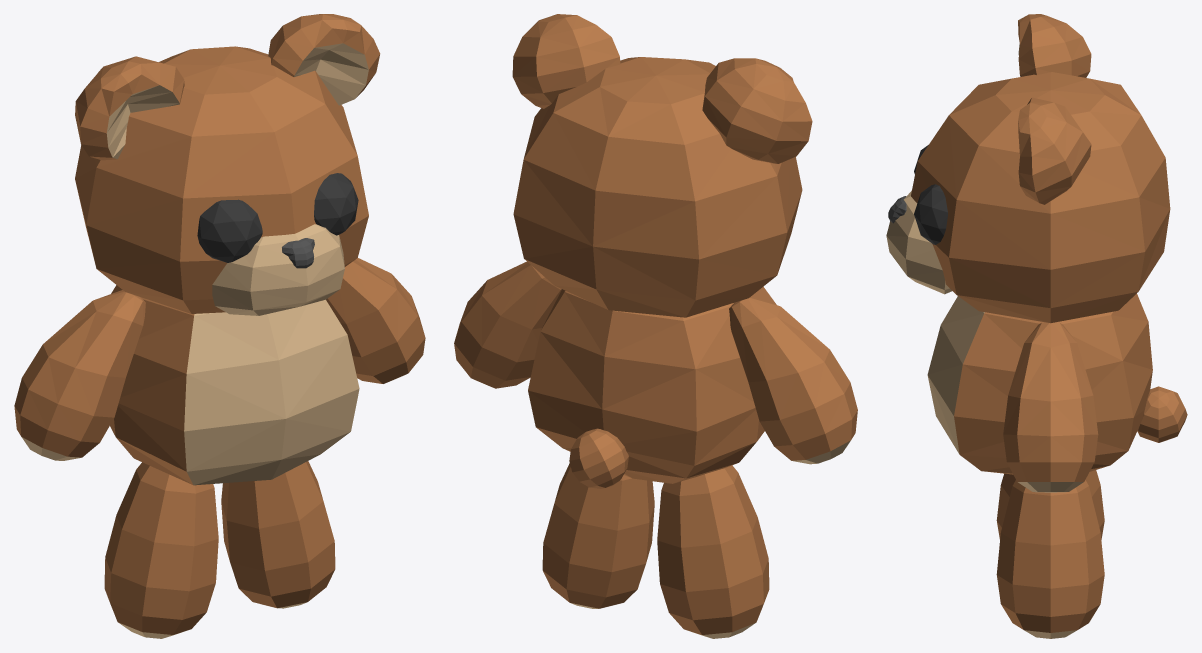
File: bear.fbx
3 renders of one model, left to right at view 1: azimuth 30°, elevation 25°; view 2: azimuth 150°, elevation 25°; view 3: azimuth 270°, elevation 25°, orthographic. The views are drawn at different scales.
Parts seen in each view (by area): view 1: head, body, leg_R, hand_R, leg_L, hand_L; view 2: head, body, leg_R, hand_R, leg_L, hand_L, tail; view 3: head, body, leg_L, hand_L, tail, leg_R.
Part boxes in pixels (x1,y1,x2,y2): head: (75, 14, 380, 315); body: (110, 285, 359, 485); leg_R: (104, 462, 218, 638); hand_R: (14, 290, 145, 460); leg_L: (221, 461, 335, 608); hand_L: (326, 258, 425, 383); head: (512, 14, 812, 317); body: (528, 286, 776, 488); leg_R: (657, 465, 769, 638); hand_R: (729, 296, 857, 464); leg_L: (542, 463, 654, 608); hand_L: (454, 261, 561, 388); tail: (570, 429, 628, 488); head: (886, 14, 1170, 323); body: (927, 293, 1187, 474); leg_L: (996, 480, 1104, 638); hand_L: (1003, 322, 1098, 492); tail: (1137, 390, 1185, 438); leg_R: (996, 470, 1104, 539).
Bounding box in the file's own units: 299 × 417 × 209.
